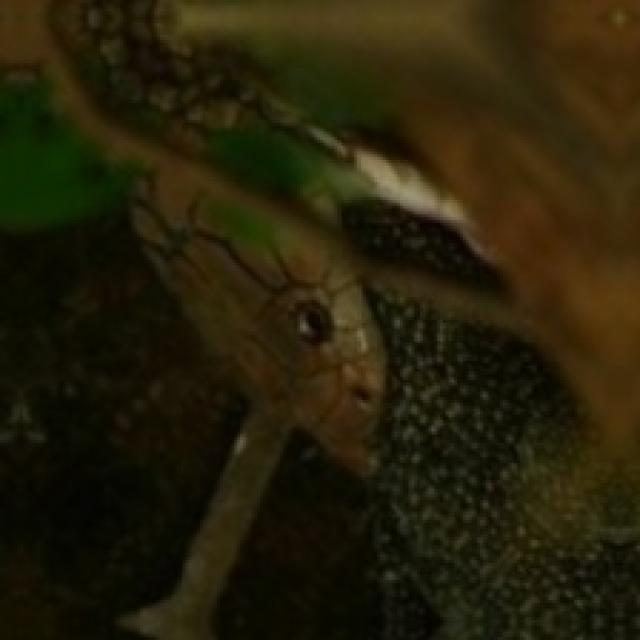king cobra: (49, 0, 637, 637), (237, 426, 374, 620)
